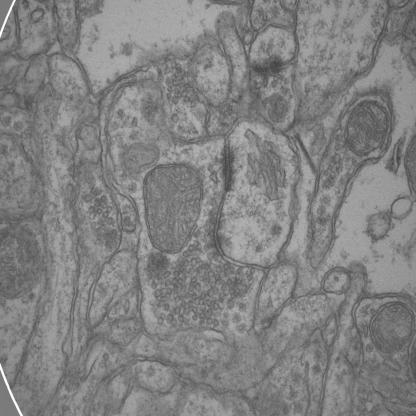mitochondria: (140, 159, 206, 260), (366, 296, 414, 364), (342, 95, 391, 161)
